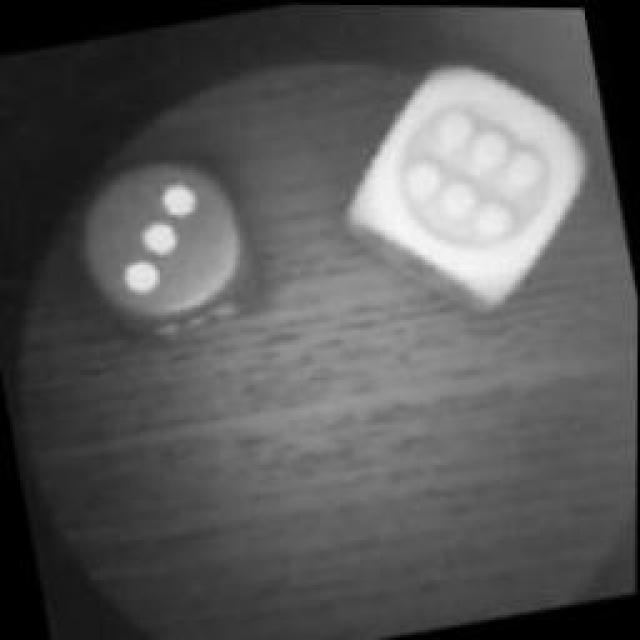dice_3: (60, 134, 278, 354)
dice_6: (325, 31, 620, 334)
